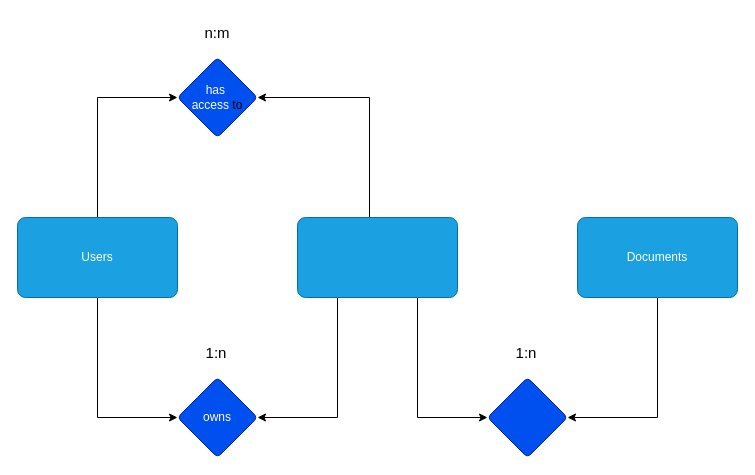
This 755x475 diagram has some shape labels left out. Here are the shapes that lost their labels. From the top down, the centre of each, then its label:
At pixel 377 257: "Projects".
At pixel 527 417: "has".
